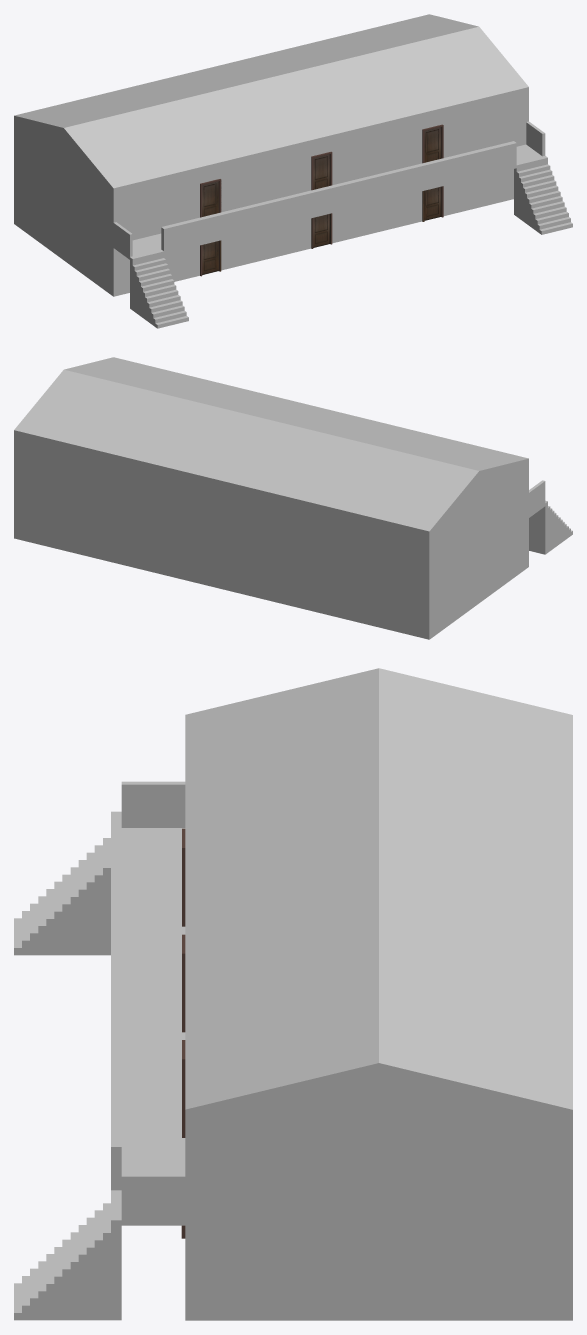
File: Appartment2.fbx
The picture shows the model from 3 angles, top to bottom: view 1: azimuth 30°, elevation 25°; view 2: azimuth 150°, elevation 25°; view 3: azimuth 270°, elevation 25°; orthographic projection. The views are drawn at different scales.
Visible parts, largest first — view 1: Cube; view 2: Cube; view 3: Cube.
Boxes of the visible parts, x1,y1,x2,y2 form: Cube: (14, 14, 572, 328); Cube: (14, 357, 572, 639); Cube: (14, 668, 572, 1320).
Bounding box in the file's own units: 2410 × 734 × 1442.
